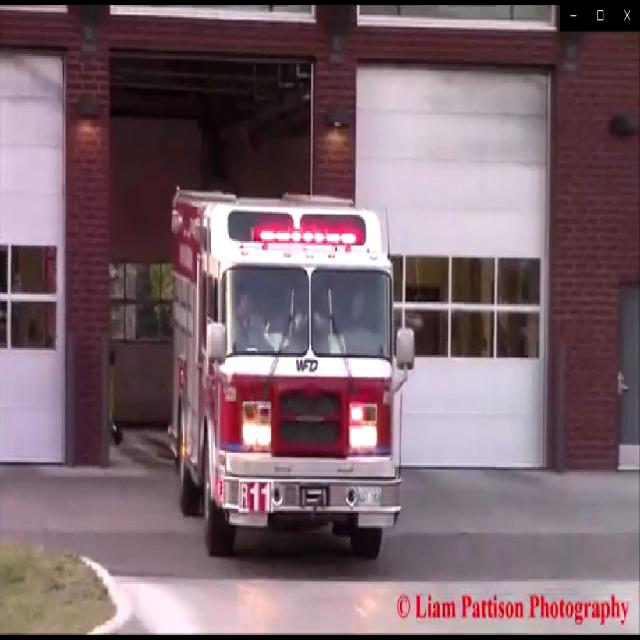emergency: (168, 183, 422, 574)
